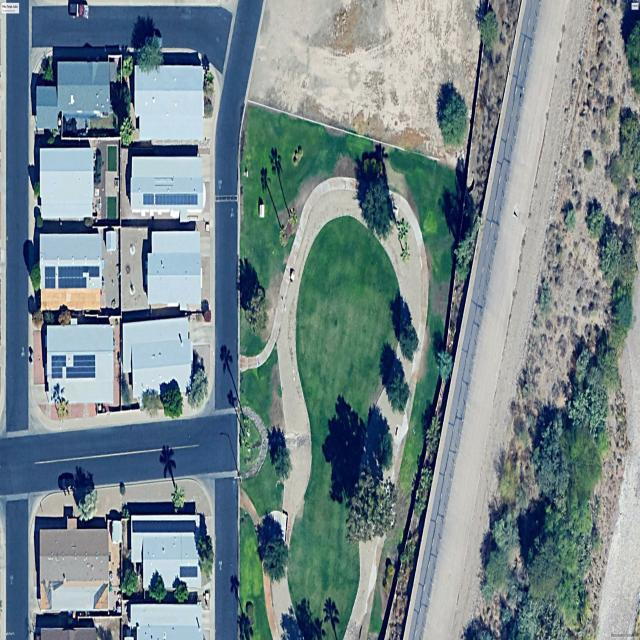Home: (38, 529, 111, 612), (121, 317, 193, 398), (43, 324, 115, 404), (133, 64, 204, 141), (130, 514, 201, 589), (127, 155, 206, 222), (36, 61, 113, 129), (39, 232, 104, 311), (147, 231, 202, 308), (39, 147, 94, 220), (130, 604, 203, 640)
